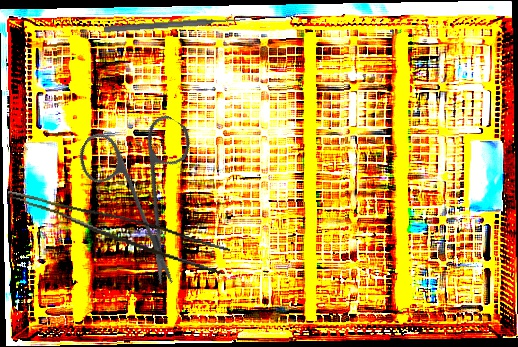Iris Scissors: (42, 85, 246, 290)
Pusher: (103, 15, 248, 34)
Tissue Forceps: (1, 190, 232, 275)
